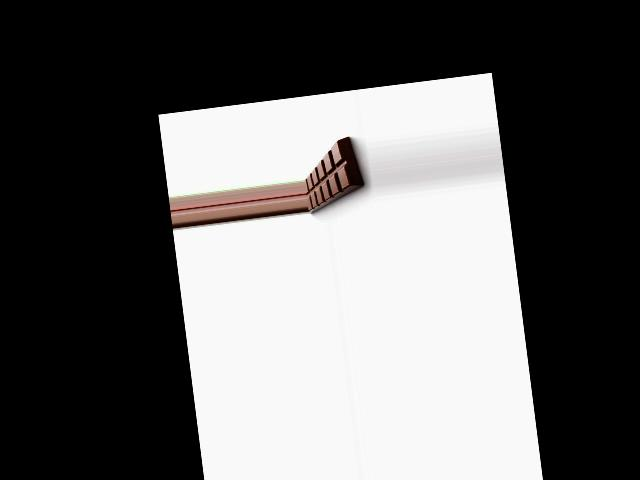chocolate: (300, 134, 369, 218)
